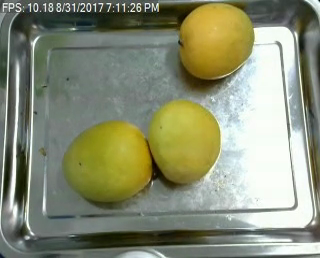Mango: (58, 118, 157, 203), (143, 96, 228, 186), (171, 1, 254, 83)
